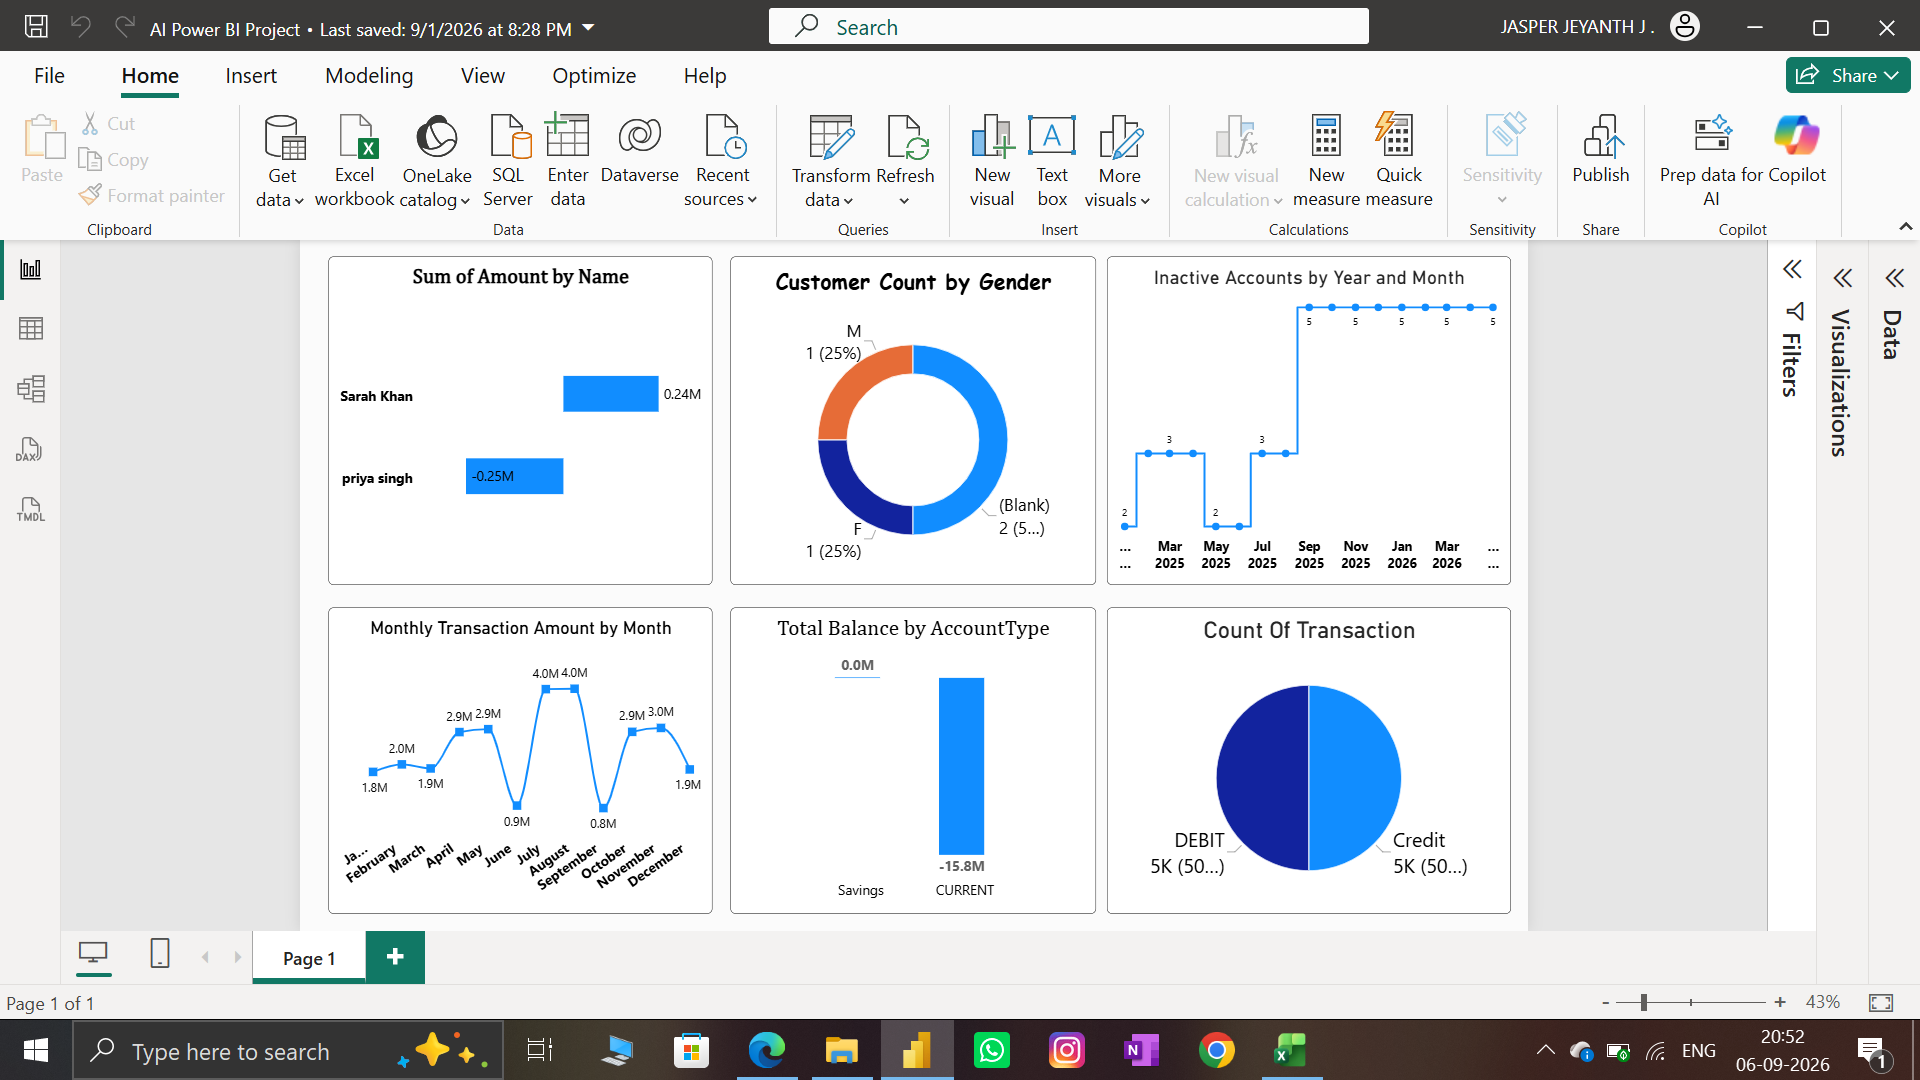

The page's visual inventory and layout, read from the dashboard file:
{"tool":"powerbi","page":{"name":"Page 1","canvas":[1920,1080],"ordinal":0},"visuals":[{"type":"pieChart","title":"Count Of Transaction ","fields":{"Category":["CombinedBankingDataset.TransactionType"],"Y":["Measures Table.Count Of Transaction"]},"box":[1260.5,573.7,631.6,478.9],"z":0},{"type":"lineChart","fields":{"Category":["CombinedBankingDataset.TransactionDate.Variation.Date Hierarchy.Month"],"Y":["Measures Table.Monthly Transaction Amount"]},"box":[44.7,573.7,600,478.9],"z":1},{"type":"barChart","fields":{"Category":["CombinedBankingDataset.Name"],"Y":["Sum(CombinedBankingDataset.Amount)"]},"box":[44.7,26.3,600,513.2],"z":2},{"type":"columnChart","fields":{"Category":["CombinedBankingDataset.AccountType"],"Y":["Measures Table.Total Balance"]},"box":[673.7,573.7,571.1,478.9],"z":3},{"type":"lineChart","fields":{"Category":["CombinedBankingDataset.TransactionDate.Variation.Date Hierarchy.Year","CombinedBankingDataset.TransactionDate.Variation.Date Hierarchy.Month"],"Y":["Measures Table.Inactive Accounts"]},"box":[1260.5,26.3,631.6,513.2],"z":4},{"type":"donutChart","fields":{"Category":["CombinedBankingDataset.Gender"],"Y":["Measures Table.Customer Count"]},"box":[673.7,26.3,571.1,513.2],"z":5}]}

Visuals, with their boxes on the page's 1920x1080 design canvas (x1, y1, x2, y2). These are canvas units, not pixel positions in the 1920x1080 screenshot, which may show the page scaled, cropped or inside an application window:
"Count Of Transaction " pieChart: 1260, 574, 1892, 1053
lineChart - CombinedBankingDataset.TransactionDate.Variation.Date Hierarchy.Month x Measures Table.Monthly Transaction Amount: 45, 574, 645, 1053
barChart - CombinedBankingDataset.Name x Sum(CombinedBankingDataset.Amount): 45, 26, 645, 540
columnChart - CombinedBankingDataset.AccountType x Measures Table.Total Balance: 674, 574, 1245, 1053
lineChart - CombinedBankingDataset.TransactionDate.Variation.Date Hierarchy.Year x CombinedBankingDataset.TransactionDate.Variation.Date Hierarchy.Month: 1260, 26, 1892, 540
donutChart - CombinedBankingDataset.Gender x Measures Table.Customer Count: 674, 26, 1245, 540
